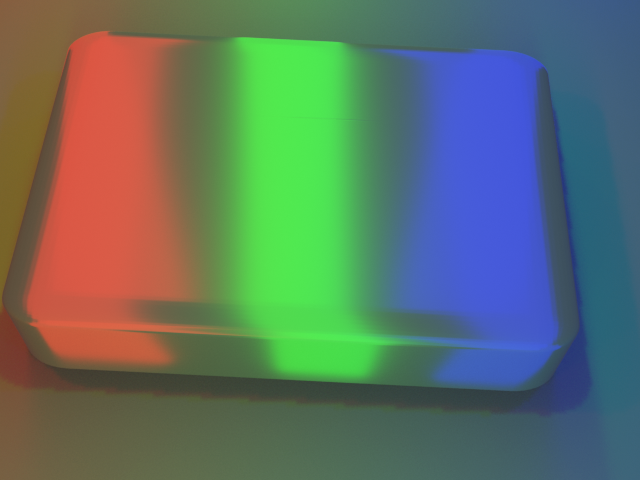scratch: (158, 23, 473, 194)
